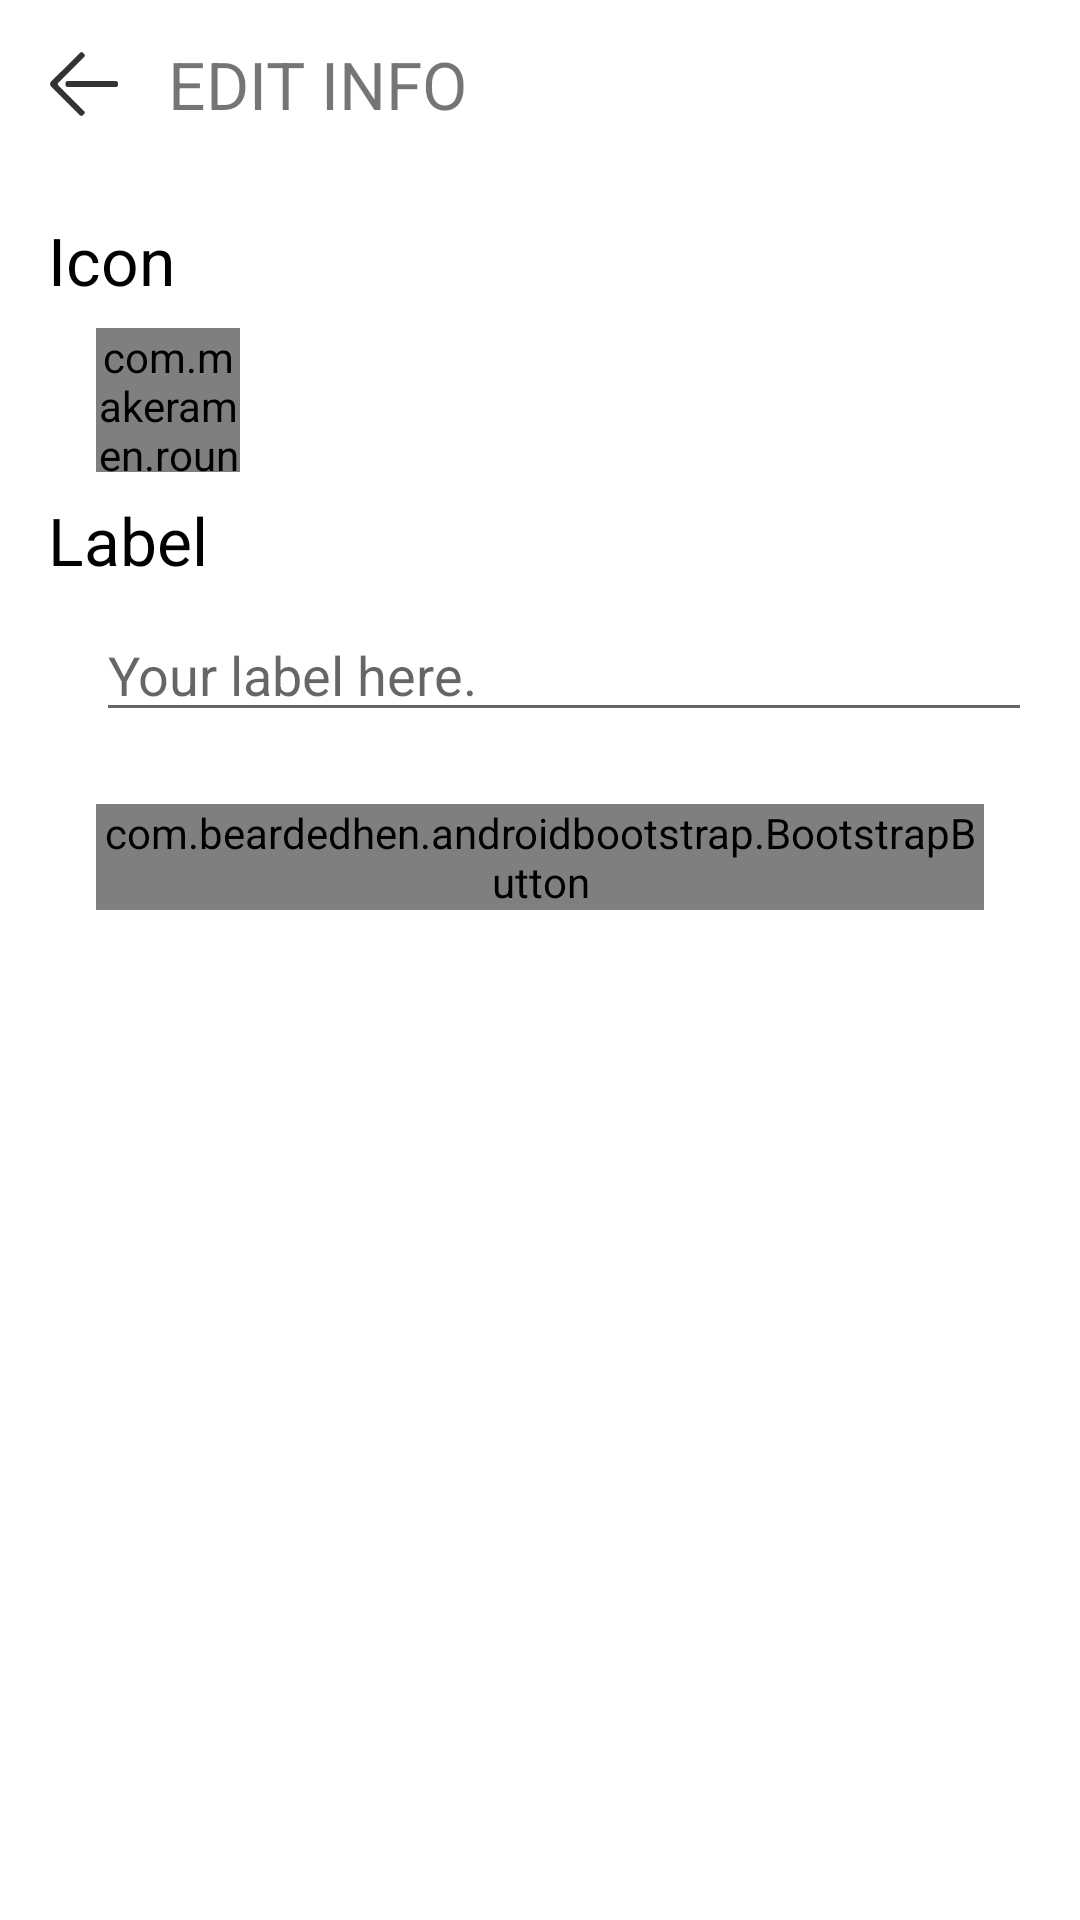

Icon bounding boxes for this 1080w x 1920h phone screenshot, format box(x1, y1, x2, y2):
return: box(50, 52, 118, 116)
